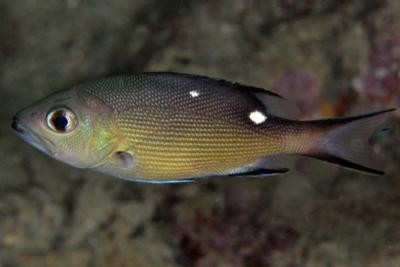Lutjanidae -Snappers-: (8, 64, 397, 193)
